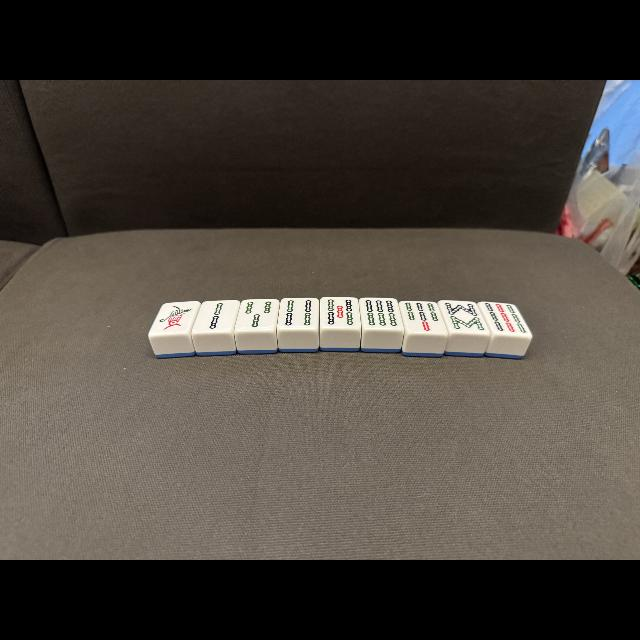b1: (154, 301, 193, 333)
b2: (198, 301, 236, 331)
b3: (239, 300, 277, 330)
b4: (280, 298, 318, 328)
b5: (320, 298, 360, 328)
b6: (362, 298, 400, 328)
b7: (403, 302, 442, 334)
b8: (442, 301, 486, 333)
b9: (484, 302, 528, 336)
